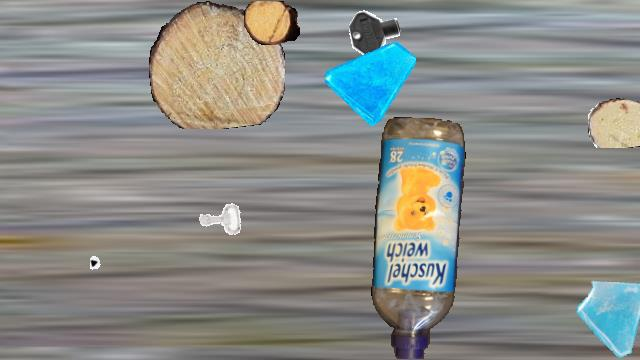glass: (325, 35, 415, 125), (575, 273, 640, 359)
metal: (90, 238, 152, 300), (345, 1, 407, 63), (193, 193, 245, 245)
plastic: (370, 117, 468, 359)
wood: (149, 1, 285, 129), (588, 98, 640, 148), (244, 1, 300, 45)
